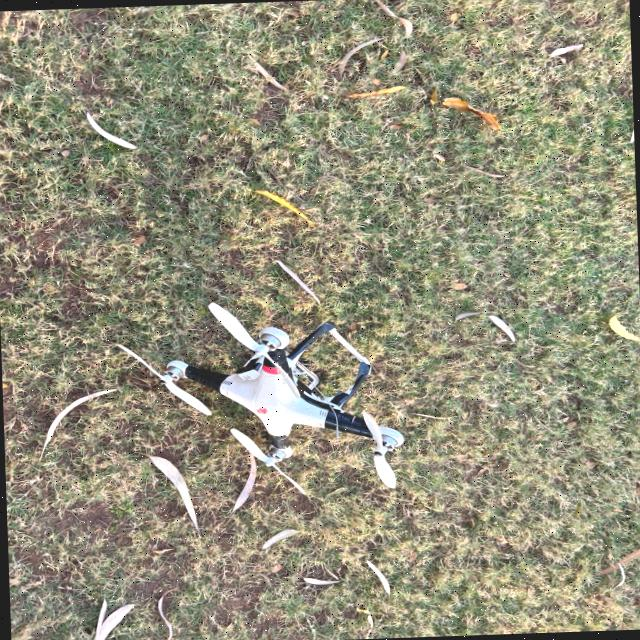drone: (106, 288, 428, 516)
